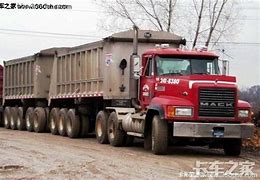bigtruck: (1, 27, 255, 160)
